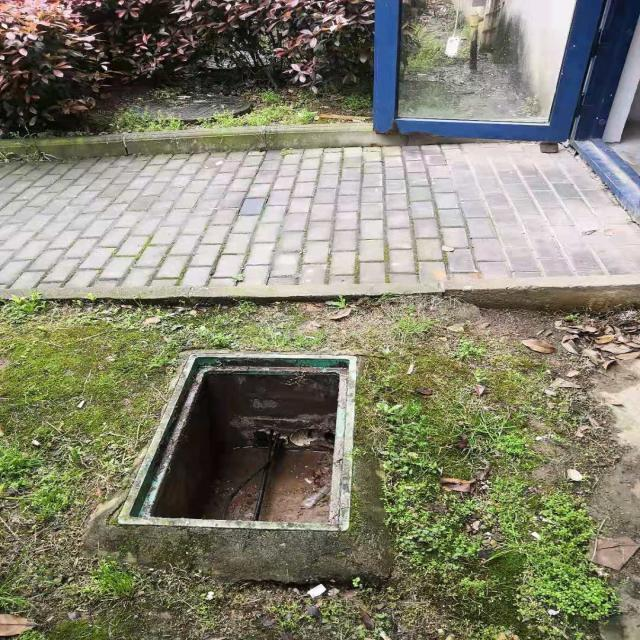Uncovered: (121, 350, 361, 534)
